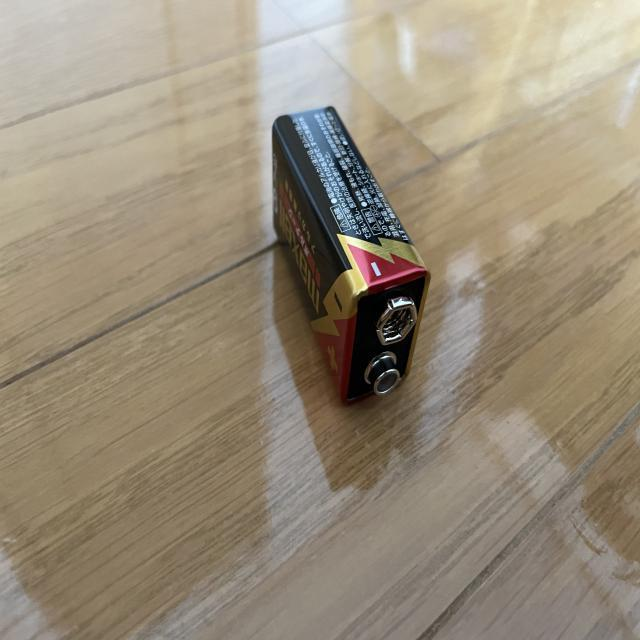9V: (270, 104, 433, 408)
